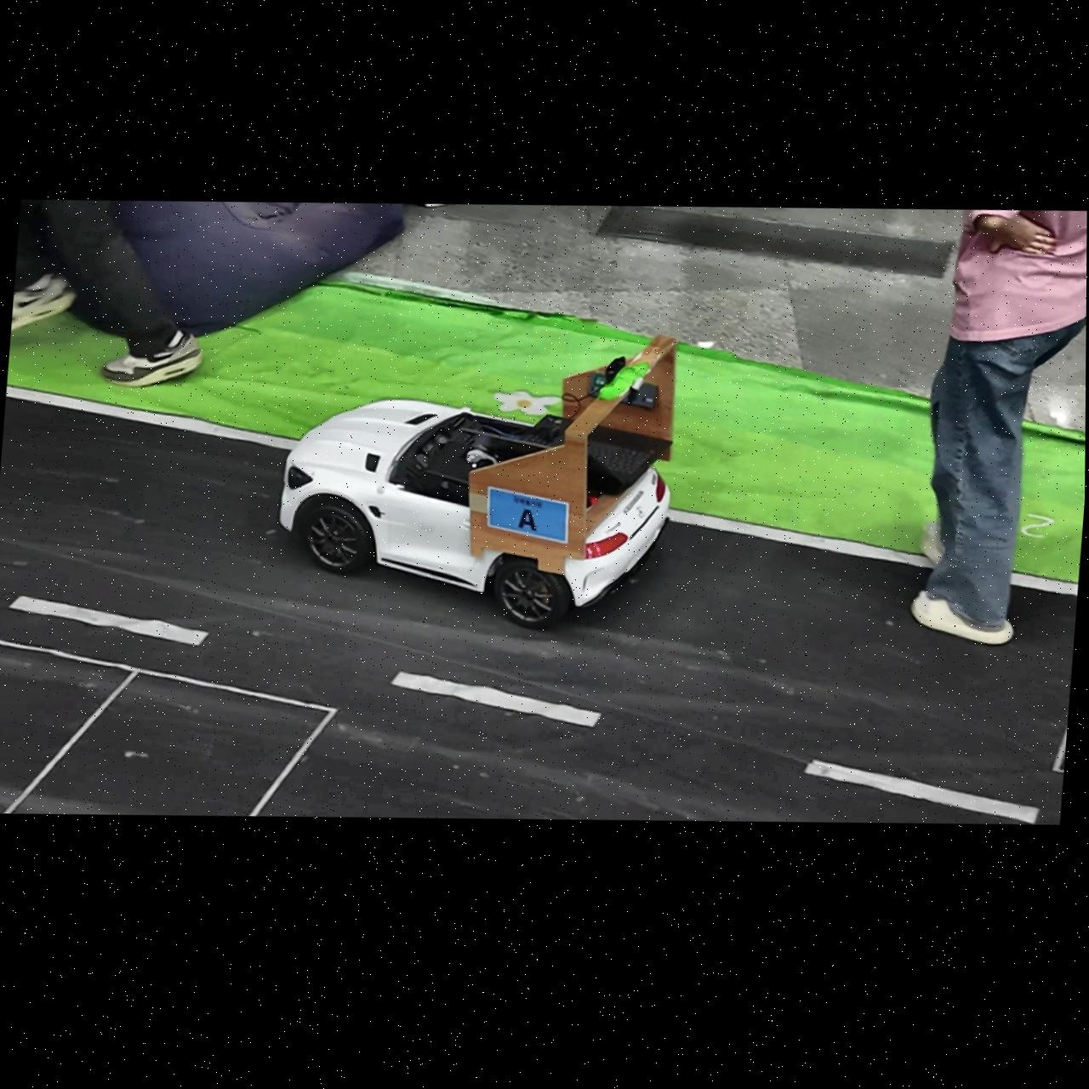broken_line: (803, 759, 1041, 824), (390, 671, 602, 727), (9, 596, 210, 646)
